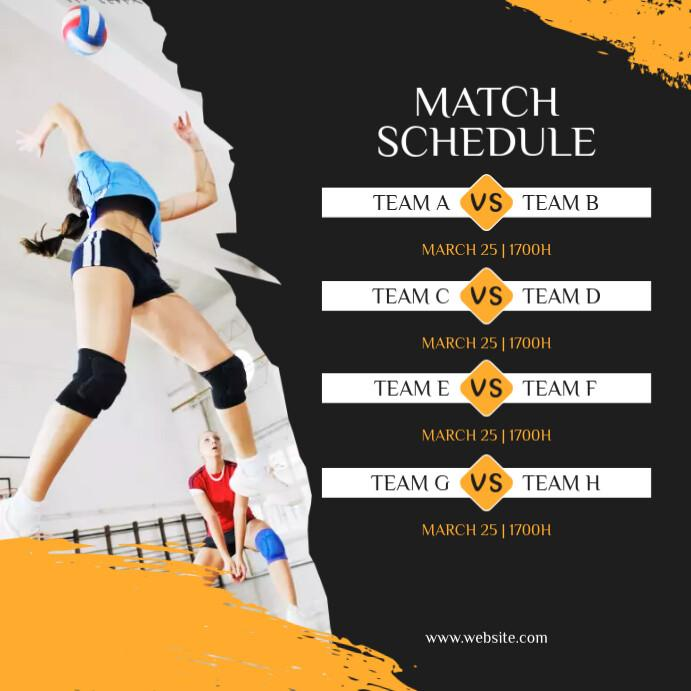ballon_volley: (61, 4, 109, 57)
